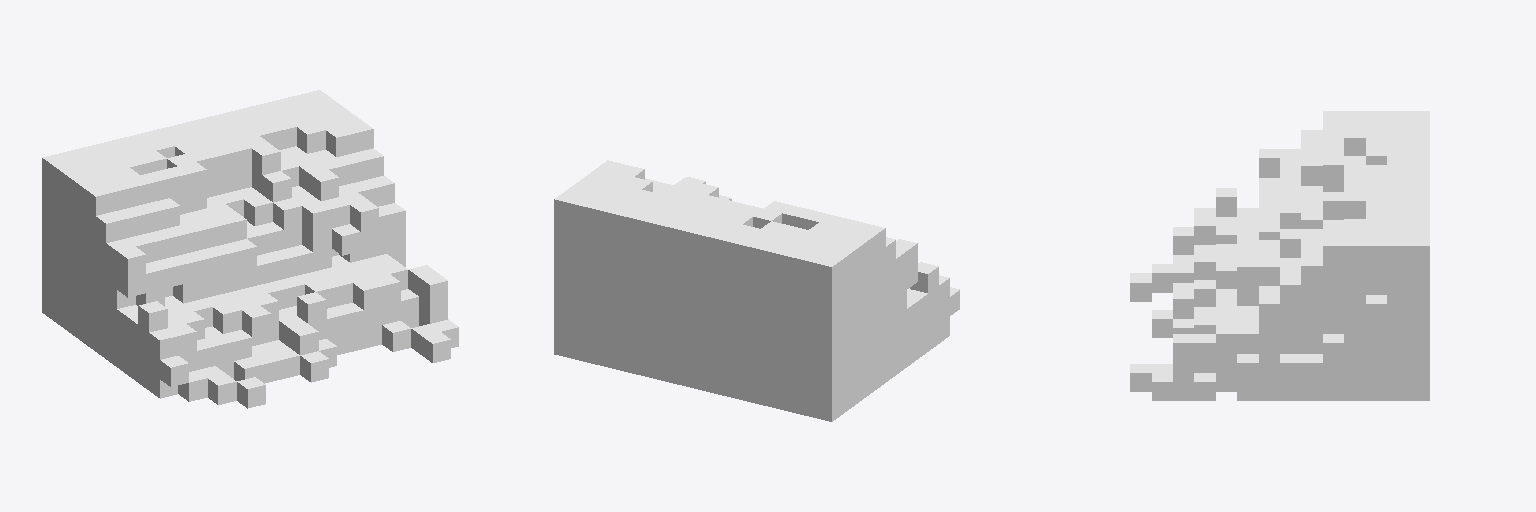
The model's file is StoneBrickBroken.obj.
3 renders of one model, left to right at view 1: azimuth 30°, elevation 25°; view 2: azimuth 150°, elevation 25°; view 3: azimuth 270°, elevation 25°, orthographic.
Visible parts, largest first — view 1: StoneBrickBroken; view 2: StoneBrickBroken; view 3: StoneBrickBroken.
Boxes of the visible parts, x1=… form: StoneBrickBroken: x1=42, y1=90, x2=458, y2=408; StoneBrickBroken: x1=554, y1=160, x2=959, y2=421; StoneBrickBroken: x1=1130, y1=111, x2=1429, y2=400.
Bounding box in the file's own units: 15 × 8 × 14.